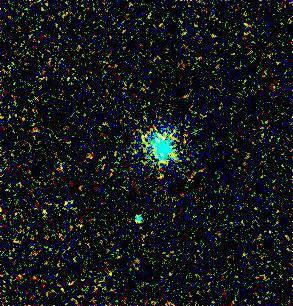star: (152, 163, 182, 193)
